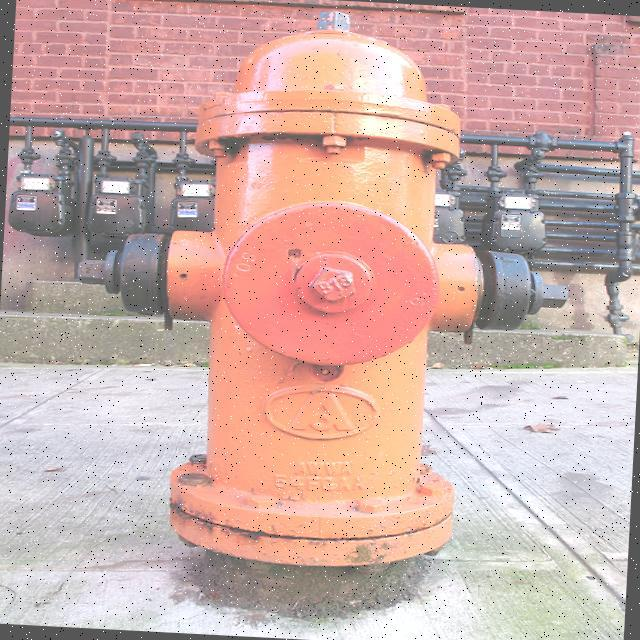fire_hydrant: (54, 0, 581, 581)
